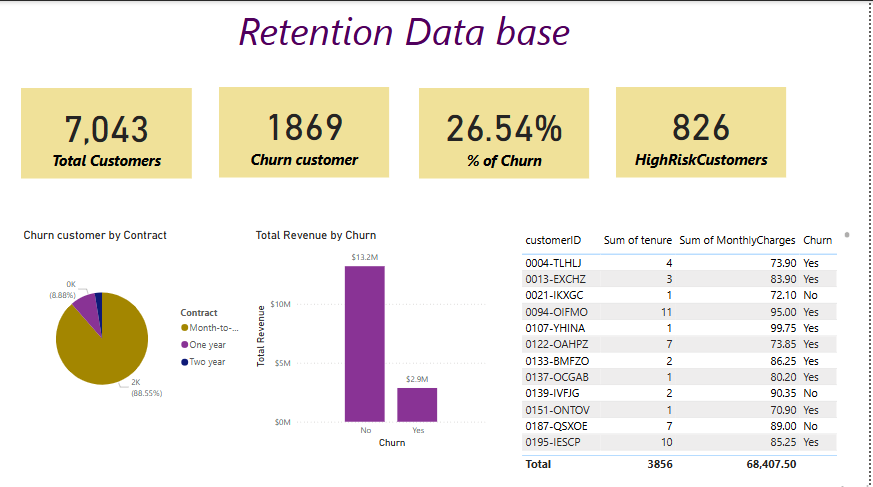

This screenshot's page, from the dashboard's own definition file:
{"tool":"powerbi","page":{"name":"Retention","canvas":[1280,720],"ordinal":1},"visuals":[{"type":"textbox","box":[191.4,0,811.2,86],"z":0},{"type":"card","fields":{"Values":["Measures (2).Total Customers"]},"box":[33.4,128.2,251.1,133.4],"z":1000},{"type":"card","fields":{"Values":["Measures (2).% of Churn"]},"box":[619,128.5,249.9,133.1],"z":2000},{"type":"card","fields":{"Values":["Measures (2).Churn customer"]},"box":[324.7,126.1,249.9,133.1],"z":3000},{"type":"card","fields":{"Values":["Measures (2).HighRiskCustomers"]},"box":[908.6,126.1,249.9,133.1],"z":4000},{"type":"pieChart","fields":{"Category":["Rentention database.Contract"],"Y":["Measures (2).Churn customer"]},"box":[32.7,334,341,306],"z":5000},{"type":"clusteredColumnChart","fields":{"Category":["Rentention database.Churn"],"Y":["Measures (2).Total Revenue"]},"box":[373.2,333.6,349.7,327.7],"z":6000},{"type":"tableEx","fields":{"Values":["Rentention database.customerID","Sum(Rentention database.tenure)","Sum(Rentention database.MonthlyCharges)","Rentention database.Churn"]},"box":[763.8,334,492.8,362],"z":7000}]}

Visuals, with their boxes in screenshot pixels (x1, y1, x2, y2), scaled from the page's 1280x720 canvas onto the 873x487 screenshot:
textbox: locate(131, 0, 684, 58)
card - Measures (2).Total Customers: locate(23, 87, 194, 177)
card - Measures (2).% of Churn: locate(422, 87, 593, 177)
card - Measures (2).Churn customer: locate(221, 85, 392, 175)
card - Measures (2).HighRiskCustomers: locate(620, 85, 790, 175)
pieChart - Rentention database.Contract x Measures (2).Churn customer: locate(22, 226, 255, 433)
clusteredColumnChart - Rentention database.Churn x Measures (2).Total Revenue: locate(255, 226, 493, 447)
tableEx - Rentention database.customerID x Sum(Rentention database.tenure): locate(521, 226, 857, 471)
